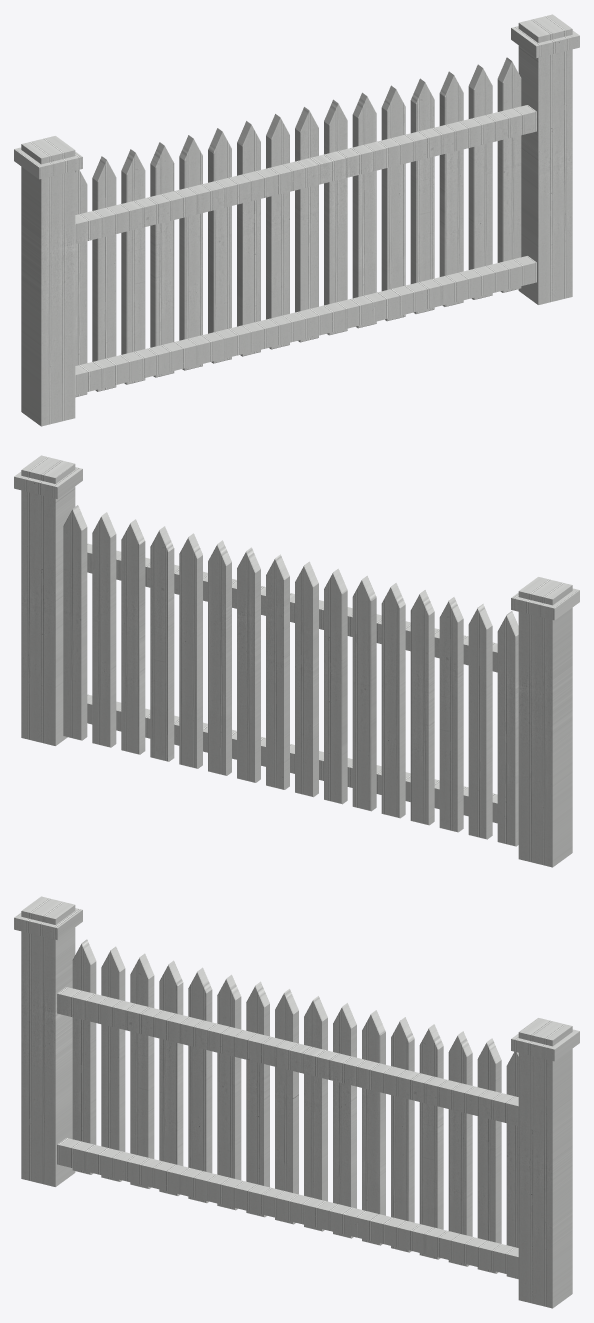
The model's file is fence.glb.
3 views of the same model, one above another, from view 1: azimuth 30°, elevation 25°; view 2: azimuth 150°, elevation 25°; view 3: azimuth 330°, elevation 25° (orthographic).
Visible parts, largest first — view 1: picket fence; view 2: picket fence; view 3: picket fence.
Part boxes in pixels (bbox=[...]): picket fence: bbox=[14, 14, 579, 426]; picket fence: bbox=[14, 455, 579, 867]; picket fence: bbox=[14, 896, 579, 1308].
Size of the model in its own units: 2.85 by 1.35 by 0.23.
1 material, 1 textured.
